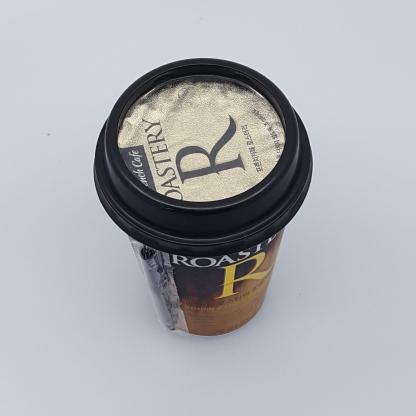--------------------: (93, 57, 313, 336)
